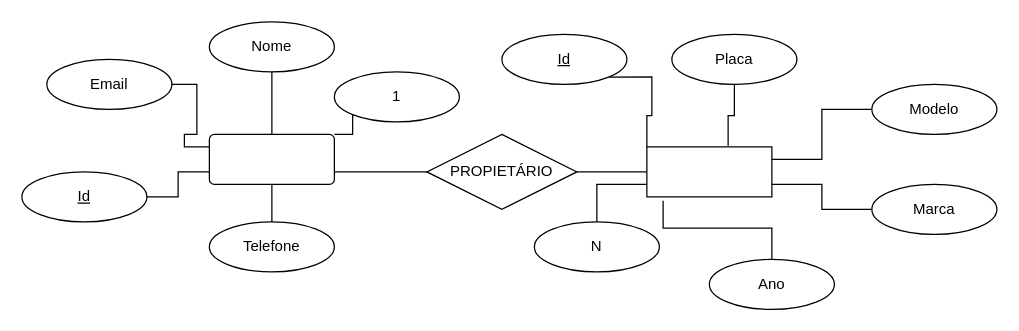
Image size: 1019x331. Some labels were removed from this diagram. Each missing label, with the box of its shape:
CLIENTE: (208, 133, 334, 184)
VEICULO: (646, 146, 772, 197)
